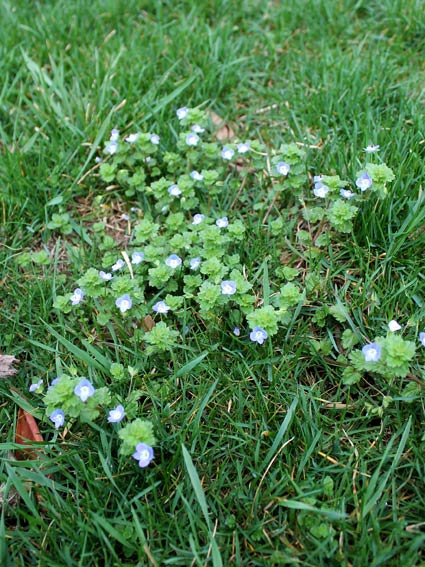crabgrass: (214, 449, 425, 566)
